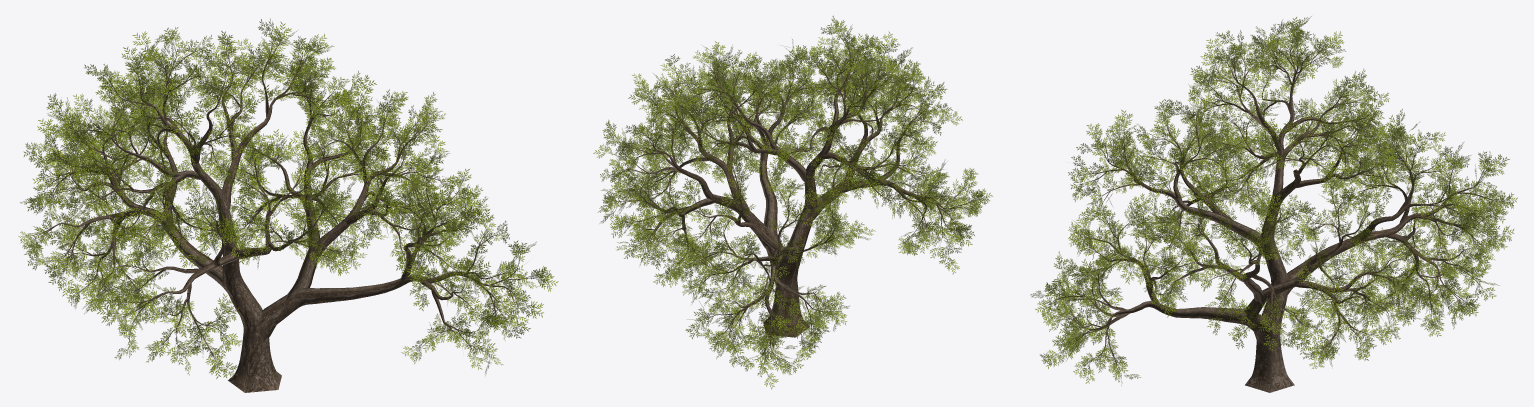
Rendered from ash_tree.gltf.
The picture shows the model from 3 angles, left to right: view 1: azimuth 30°, elevation 25°; view 2: azimuth 150°, elevation 25°; view 3: azimuth 270°, elevation 25°; orthographic projection. The views are drawn at different scales.
Bounding box in the file's own units: 69.28 × 62 × 84.37.
Materials: 2 (2 with a texture image).
